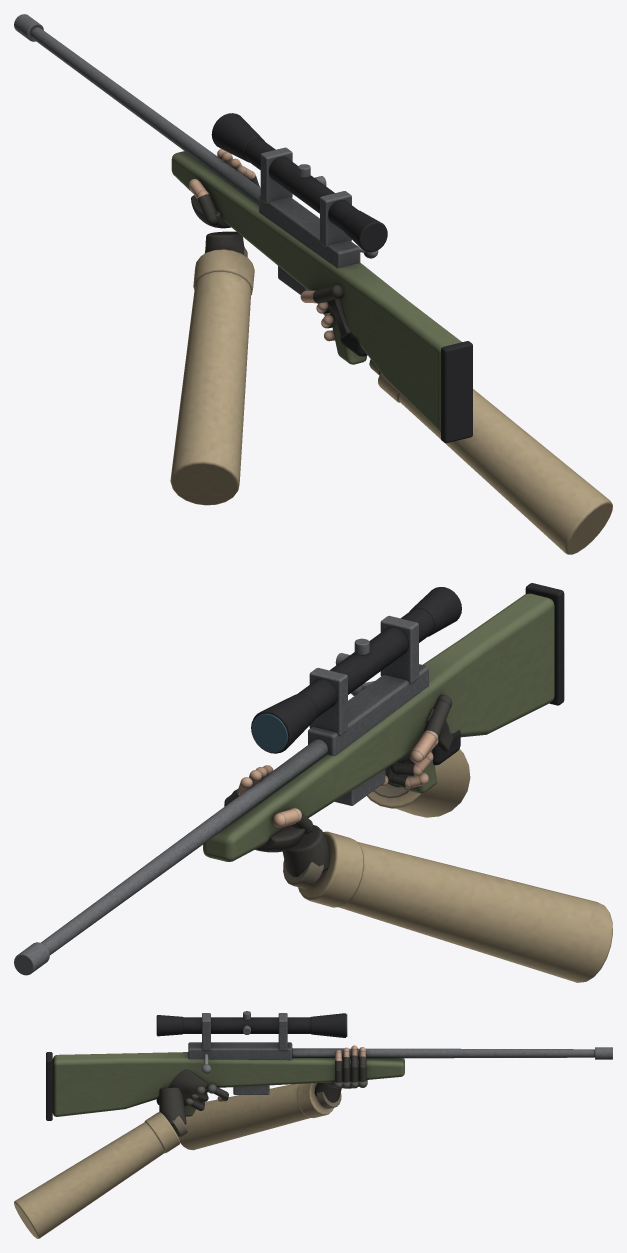
File: snig.glb
The picture shows the model from 3 angles, top to bottom: view 1: azimuth 30°, elevation 25°; view 2: azimuth 150°, elevation 25°; view 3: azimuth 270°, elevation 25°; orthographic projection. The views are drawn at different scales.
Visible parts, largest first — view 1: snig, hænder; view 2: snig, hænder; view 3: snig, hænder.
Part boxes in pixels (x1,y1,x2,y2): snig: (14, 14, 472, 443); hænder: (170, 149, 612, 554); snig: (14, 583, 564, 975); hænder: (224, 694, 612, 982); snig: (46, 1011, 612, 1120); hænder: (14, 1045, 367, 1238).
Size of the model in its own units: 0.5162 by 0.4635 by 1.33.
Materials: 2 (2 with a texture image).
